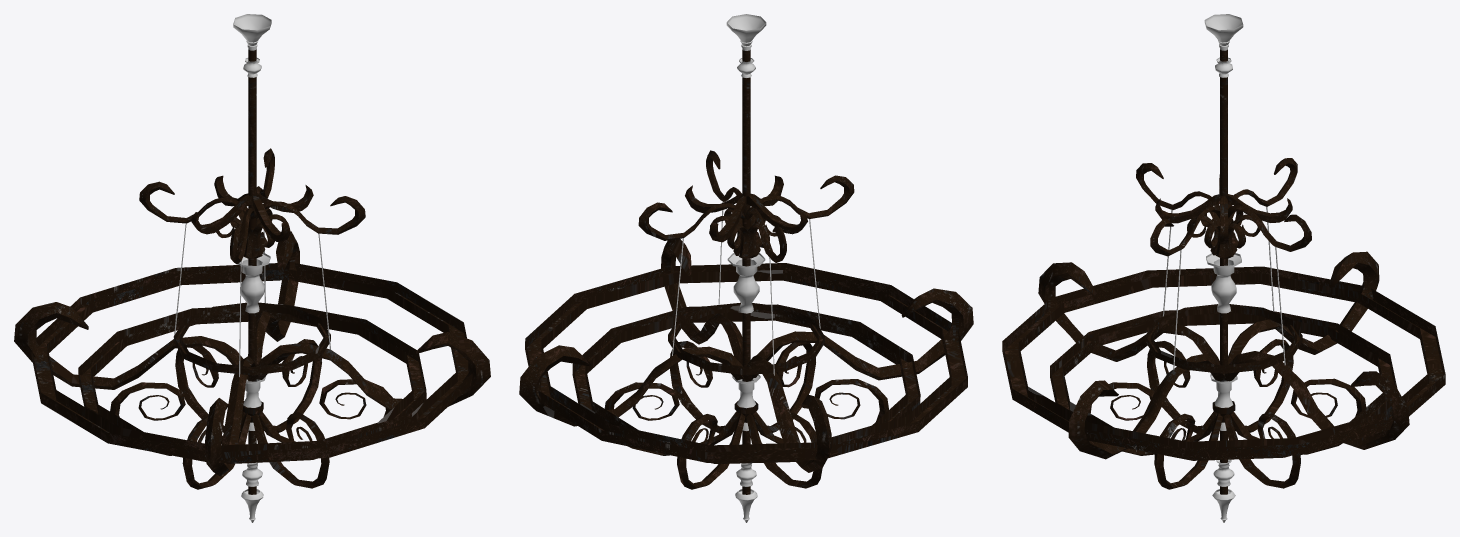
The model's file is SM_L1_Chandelier_01.fbx.
3 views of the same model, side by side, from view 1: azimuth 30°, elevation 25°; view 2: azimuth 150°, elevation 25°; view 3: azimuth 270°, elevation 25° (orthographic).
Visible parts, largest first — view 1: L1_Chandelier_01; view 2: L1_Chandelier_01; view 3: L1_Chandelier_01.
Part boxes in pixels (x1=…): L1_Chandelier_01: x1=14, y1=14, x2=490, y2=522; L1_Chandelier_01: x1=519, y1=14, x2=973, y2=522; L1_Chandelier_01: x1=1002, y1=14, x2=1445, y2=522.
Bounding box in the file's own units: 527 × 656 × 526.
